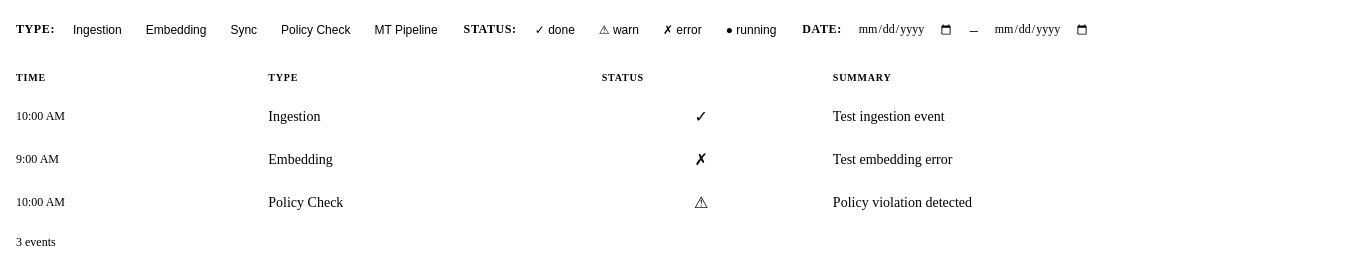
EventTable › filters by status when status filter is clicked
The width and height of the screenshot is (1358, 263).
// Click "error" filter (find by the button containing the error status)
Click the button "✗ error" at point(682, 30), box [653,16,712,42]
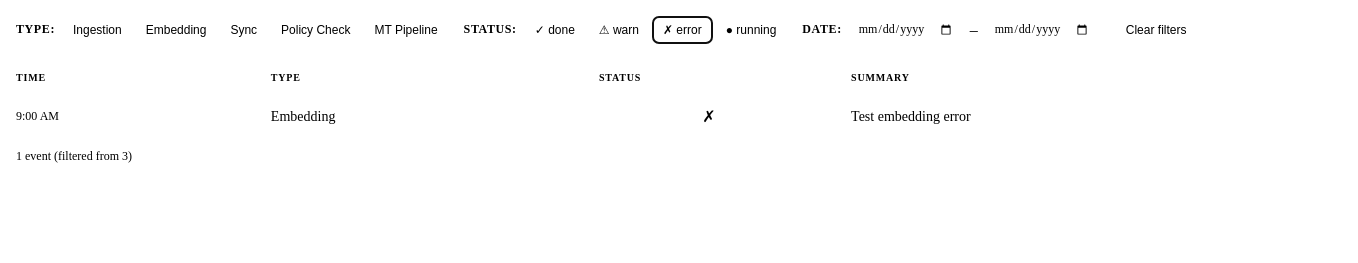
Check: the text "Test embedding error" is shown, box [835,95,1350,138]
Check: the text "Test ingestion event" is gone
Check: the text "Policy violation detected" is gone
